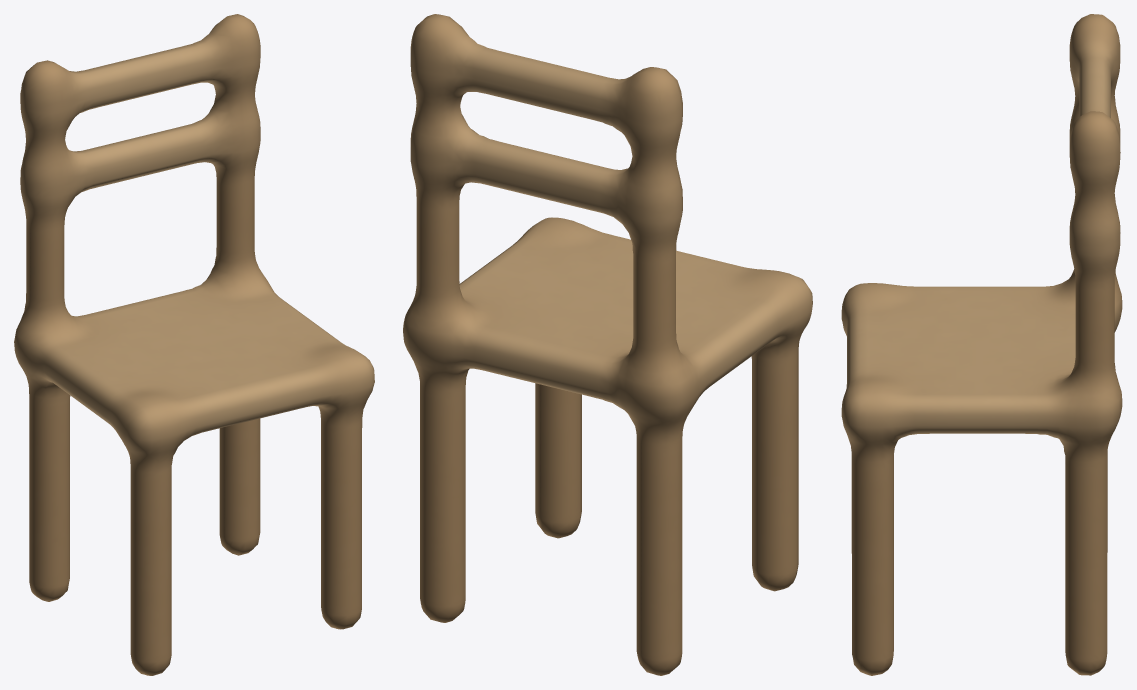
The model's file is chair.glb.
3 views of the same model, side by side, from view 1: azimuth 30°, elevation 25°; view 2: azimuth 150°, elevation 25°; view 3: azimuth 270°, elevation 25° (orthographic). The views are drawn at different scales.
Parts seen in each view (by area): view 1: geometry_0; view 2: geometry_0; view 3: geometry_0.
Boxes of the visible parts, <box> form: geometry_0: <box>14,14,374,675</box>; geometry_0: <box>403,14,812,675</box>; geometry_0: <box>841,14,1122,675</box>.
Size of the model in its own units: 1.04 by 2.14 by 0.9739.
